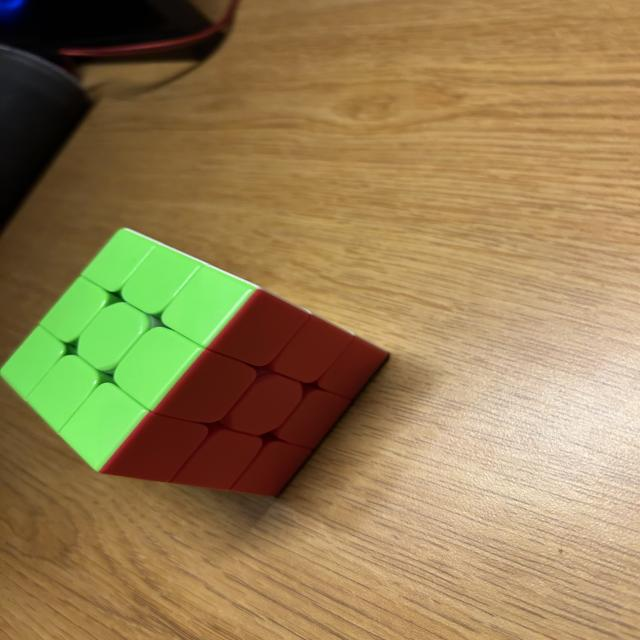Rubiks Cube: (0, 226, 387, 498)
